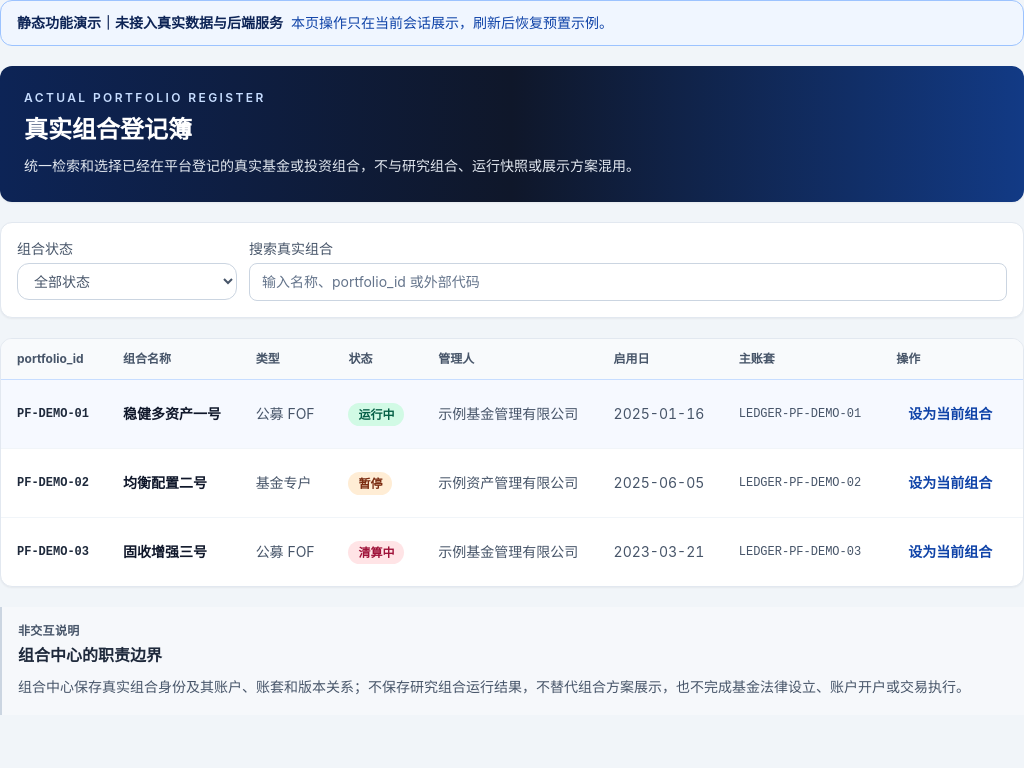
Test: PortfolioCenterWorkspace › 登记簿可筛选真实组合且不请求后端
Expected: the heading "真实组合登记簿" is shown, [24,115,192,144]
Expected: the text "PF-DEMO-01" is shown, [1,380,107,448]
Select "暂停" in the dropdown named "筛选组合状态": (127, 282) [17,263,237,300]
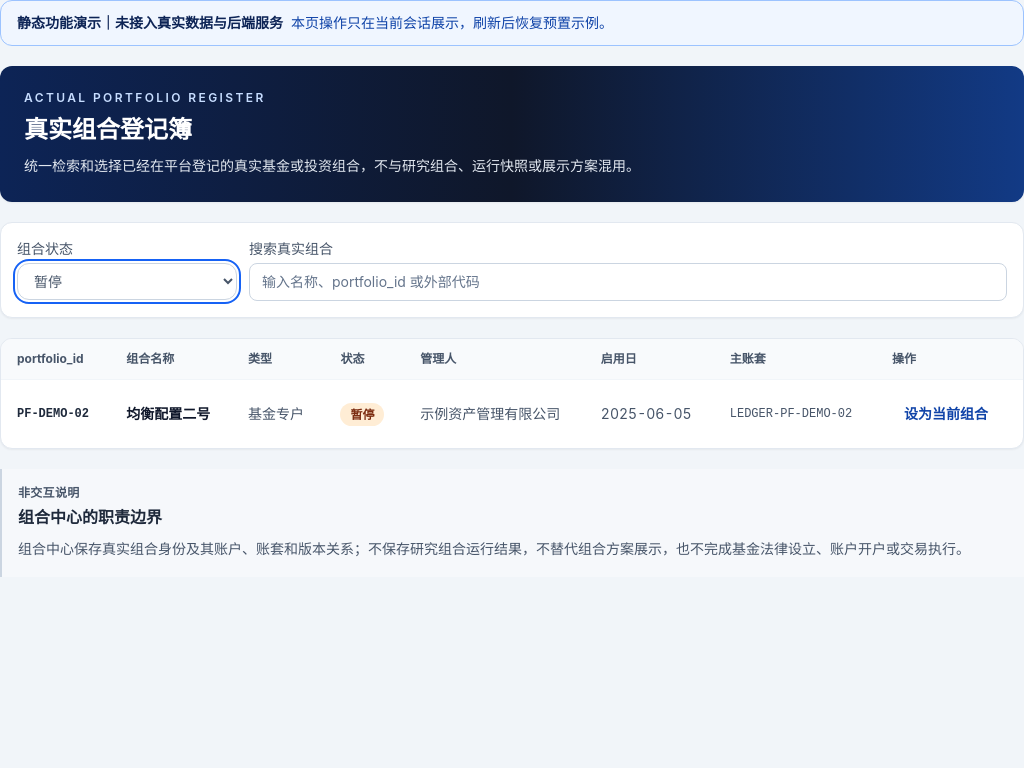
Expected: the text "均衡配置二号" is shown, [110,380,232,448]
Expected: the text "稳健多资产一号" is gone
